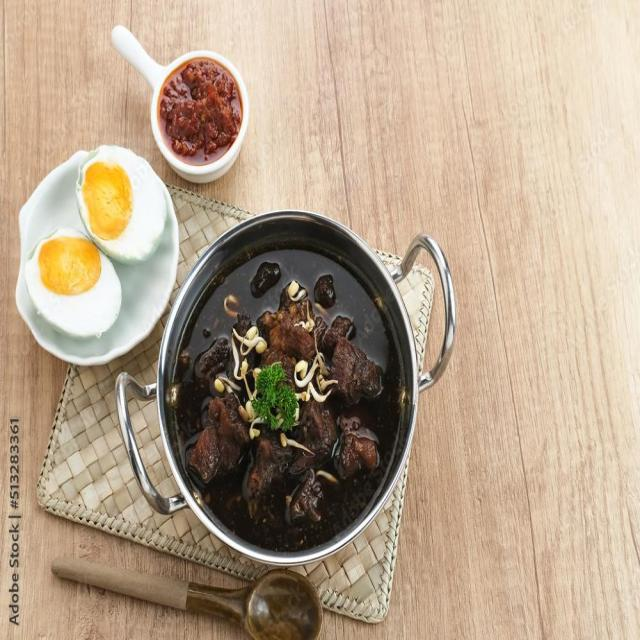Rawon: (164, 247, 412, 534)
